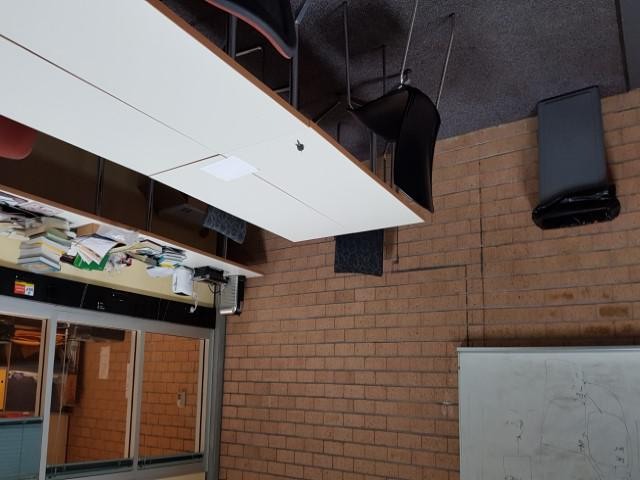key: (294, 138, 306, 152)
